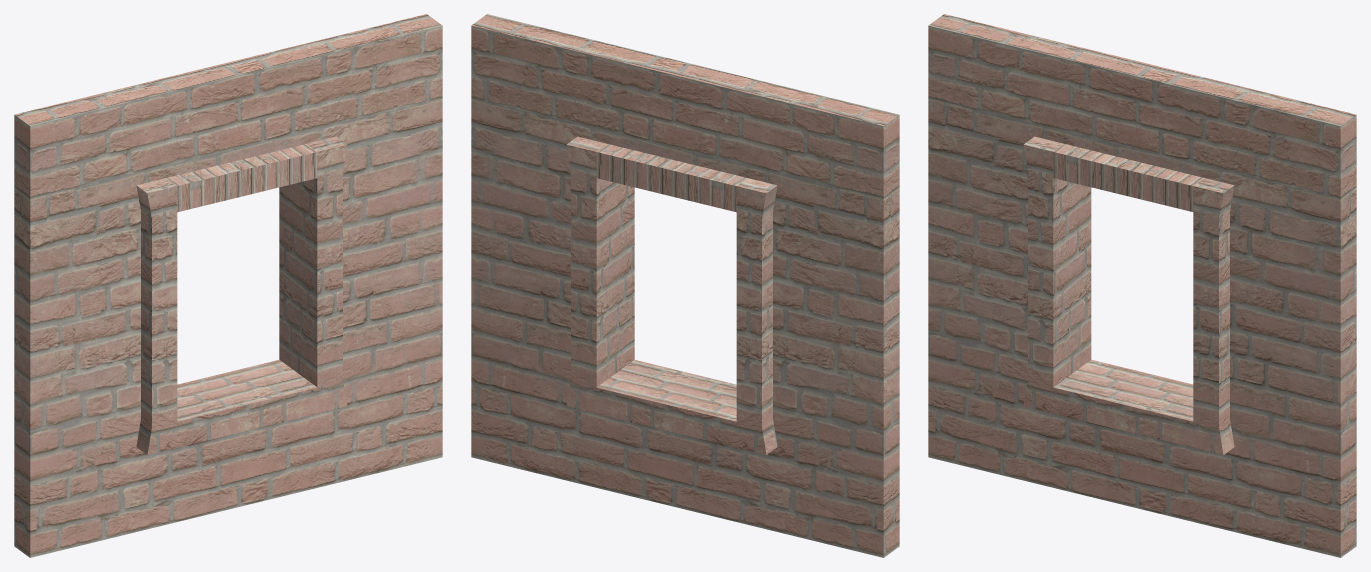
File: WallWindow.fbx
3 views of the same model, side by side, from view 1: azimuth 30°, elevation 25°; view 2: azimuth 150°, elevation 25°; view 3: azimuth 330°, elevation 25° (orthographic).
Visible parts, largest first — view 1: WallWindow; view 2: WallWindow; view 3: WallWindow.
Boxes of the visible parts, <box> form: WallWindow: <box>14,14,442,557</box>; WallWindow: <box>471,14,899,557</box>; WallWindow: <box>928,14,1356,557</box>.
Bounding box in the file's own units: 300 × 300 × 47.91.
1 material, 1 textured.
